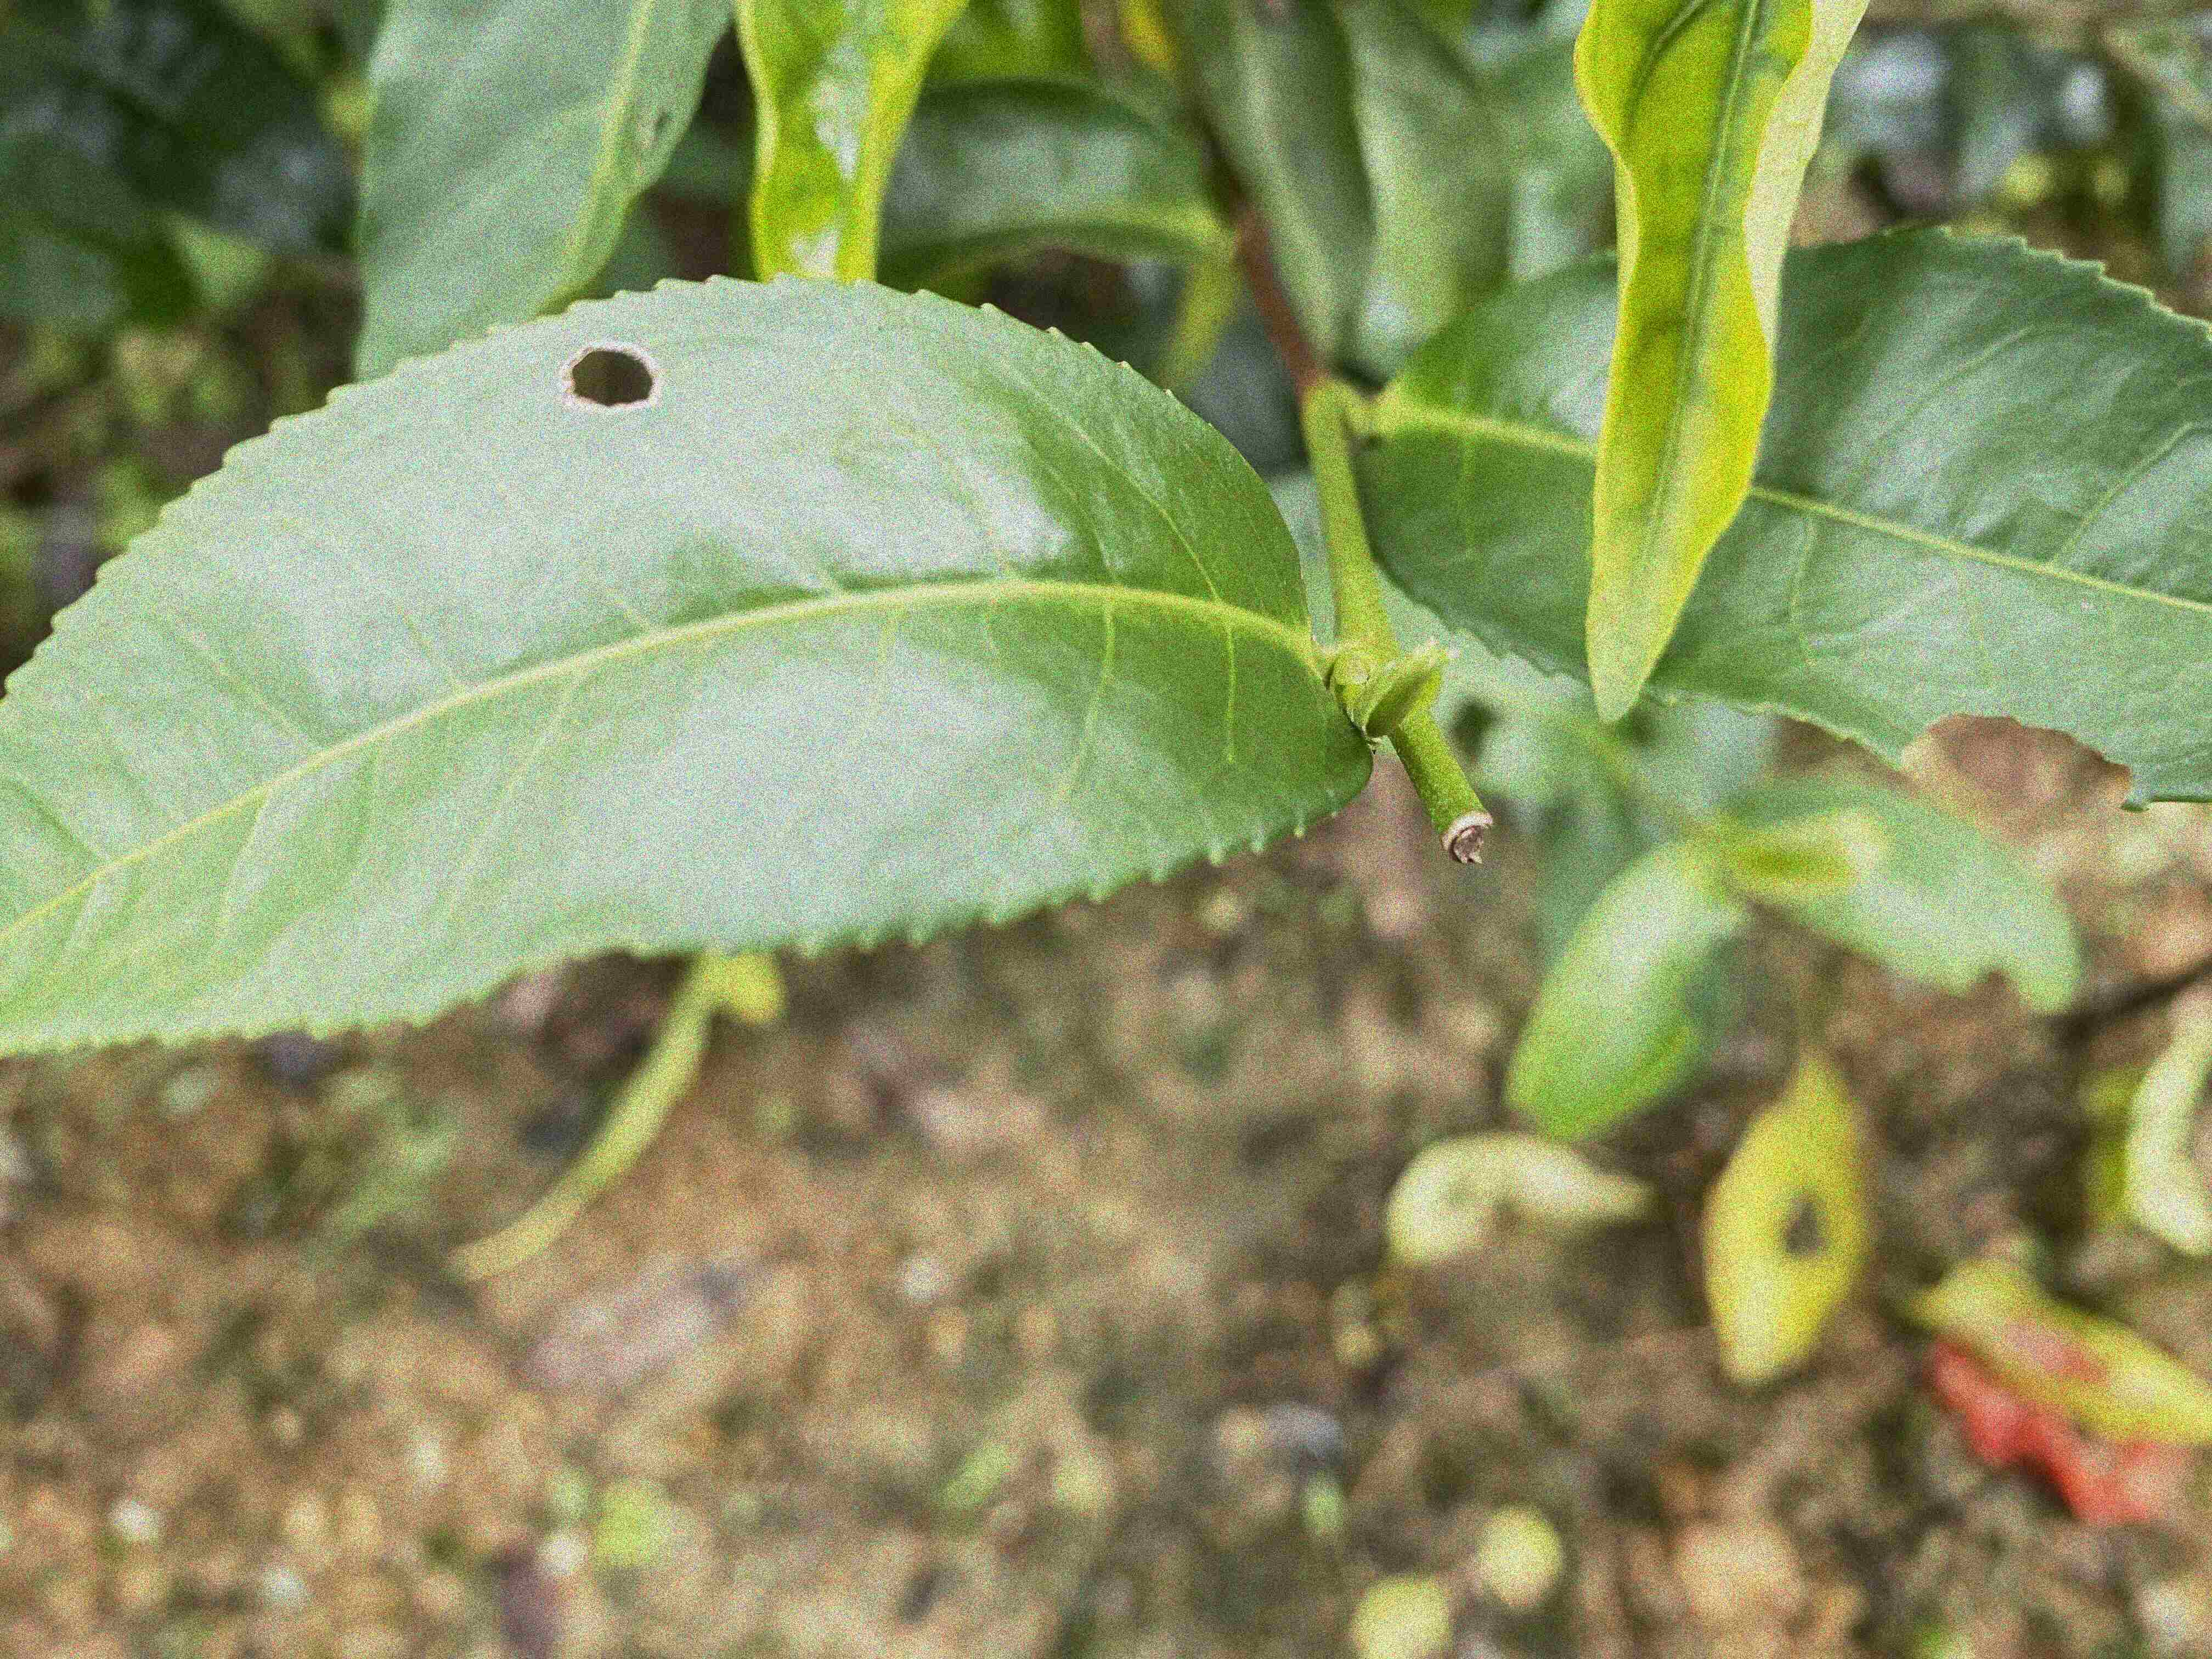chihuo_low: (2, 267, 1376, 1060), (1359, 225, 2209, 812)
healthy: (1575, 3, 1871, 727)
